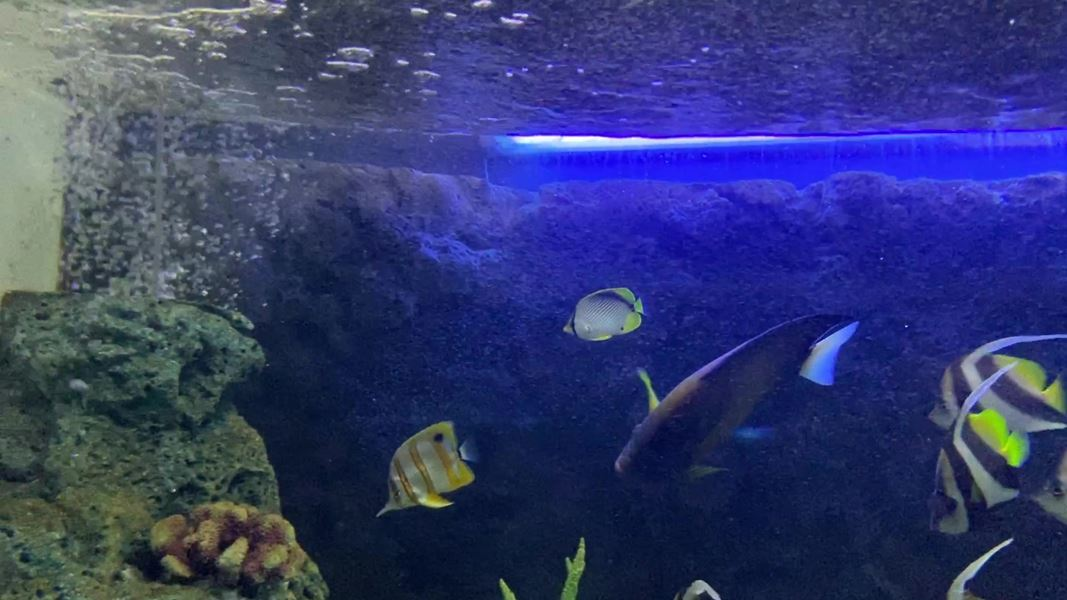Black-backed butterflyfish: (556, 281, 660, 349)
